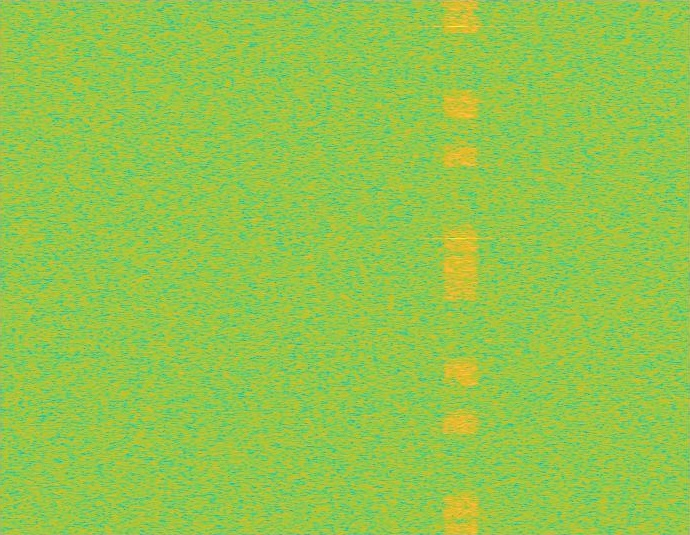LTE: (444, 0, 478, 534)
Radar: (450, 0, 464, 534)
